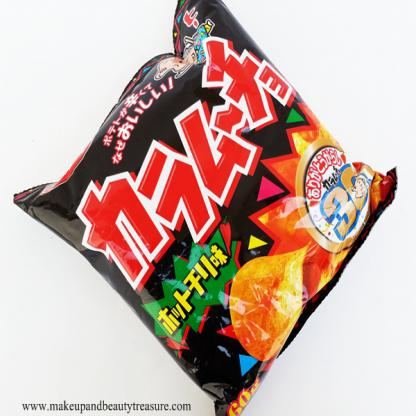potatochip: (6, 0, 402, 415)
